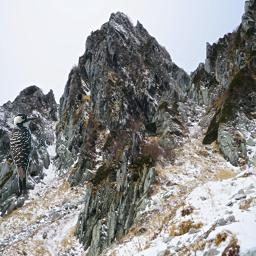Woodpecker: (8, 113, 49, 196)
